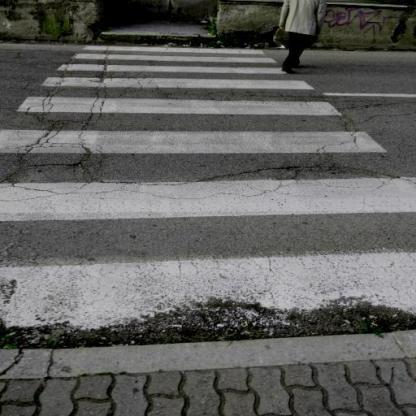crosswalk: (0, 165, 416, 343), (15, 74, 351, 123)
